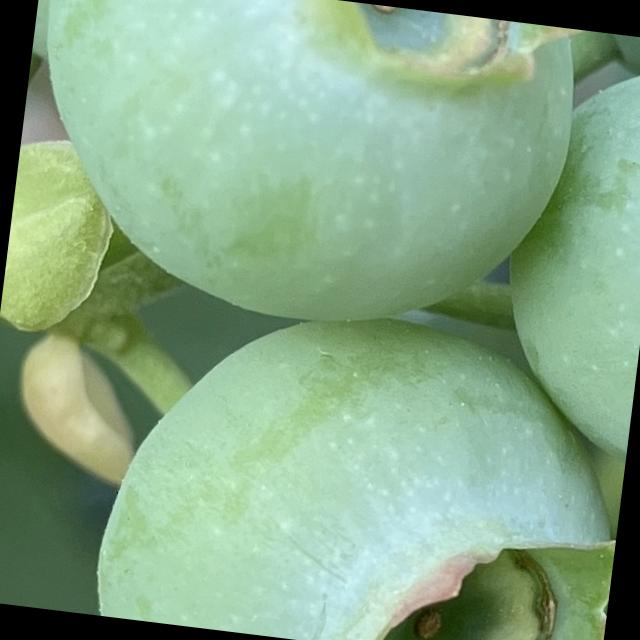Blueberries: (7, 0, 614, 360), (87, 287, 638, 640), (484, 24, 640, 479)
